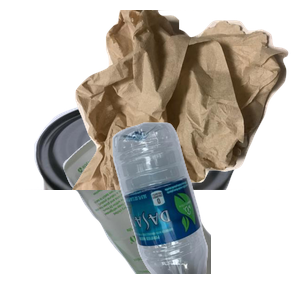glass: (60, 120, 300, 300)
metal: (16, 96, 244, 276)
plastic: (110, 120, 300, 300)
trash: (70, 10, 300, 190)
